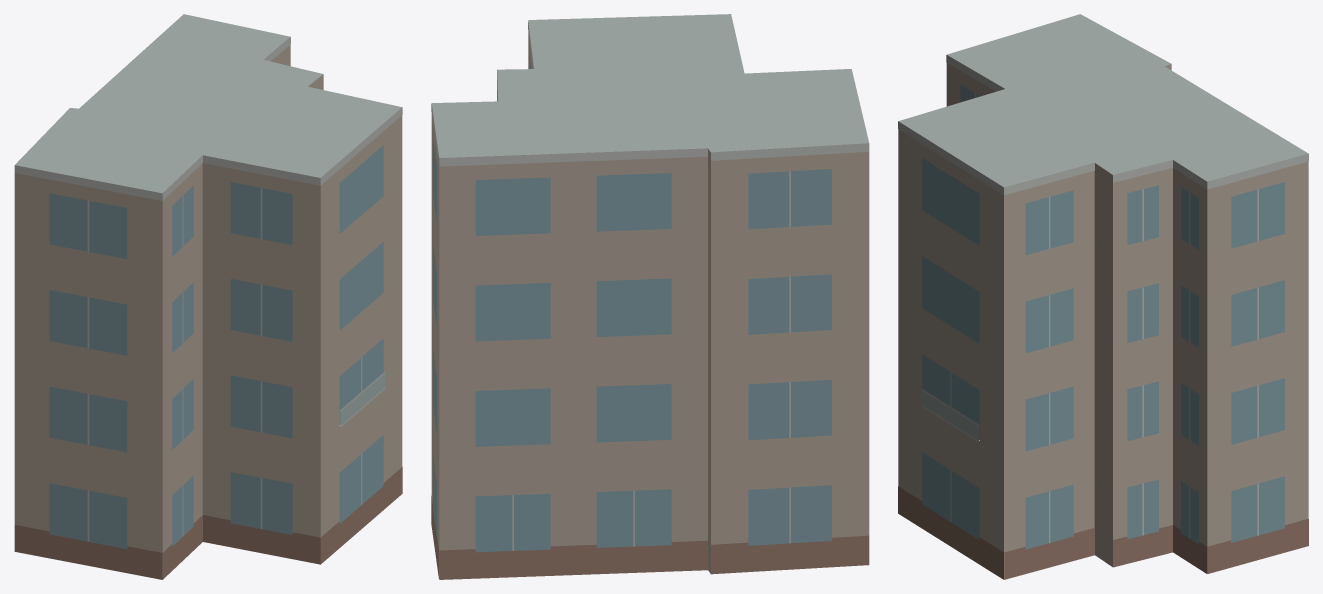
The model's file is survey-upis-32671241.glb.
3 renders of one model, left to right at view 1: azimuth 30°, elevation 25°; view 2: azimuth 150°, elevation 25°; view 3: azimuth 270°, elevation 25°, orthographic. The views are drawn at different scales.
Parts seen in each view (by area): view 1: survey-upis-32671241.tmp; view 2: survey-upis-32671241.tmp; view 3: survey-upis-32671241.tmp.
Part boxes in pixels (left/top/right/bottom): survey-upis-32671241.tmp: left=14, top=14, right=402, bottom=579; survey-upis-32671241.tmp: left=431, top=14, right=869, bottom=579; survey-upis-32671241.tmp: left=898, top=14, right=1308, bottom=579.
Size of the model in its own units: 11.58 by 12.2 by 11.58.
